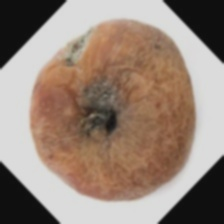apple: (32, 6, 170, 204)
